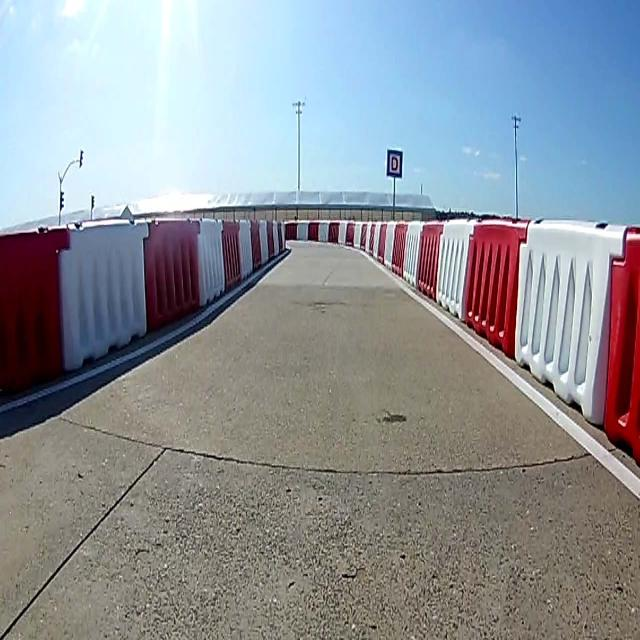durak: (388, 149, 403, 179)
